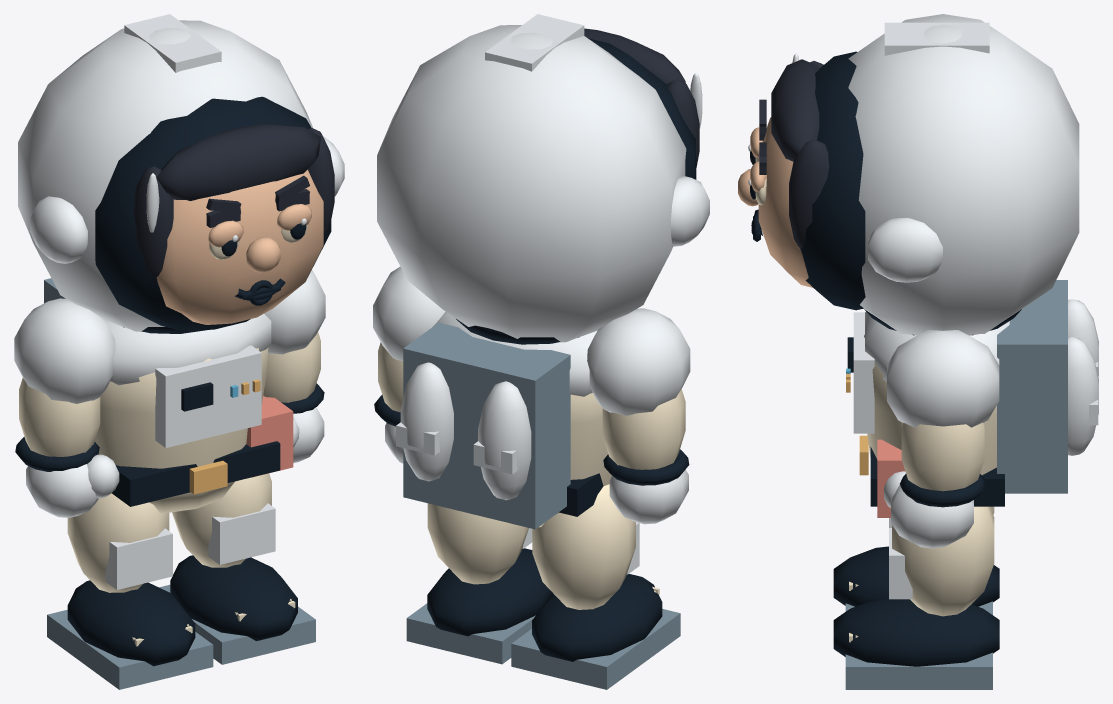
File: crew-aiko.glb
The picture shows the model from 3 angles, left to right: view 1: azimuth 30°, elevation 25°; view 2: azimuth 150°, elevation 25°; view 3: azimuth 270°, elevation 25°; orthographic projection. The views are drawn at different scales.
Parts seen in each view (by area): view 1: helmet-shell, boot (×2), face, visor-gasket, shoulder (×2), leg-pressure (×2), hairline, pressure-suit, chest-panel, sole (×2), sleeve (×2), knee-pad (×2) (+14 smaller); view 2: helmet-shell, life-pack, leg-pressure (×2), boot (×2), shoulder (×2), air-cell (×2), sole (×2), sleeve (×2), pressure-suit, glove, helmet-crown, helmet-hinge (+8 smaller); view 3: helmet-shell, life-pack, boot (×2), visor-gasket, shoulder, leg-pressure, sleeve, sole, air-cell (×2), helmet-hinge, hairline, face (+10 smaller).
Boxes of the visible parts, bbox=[...] form: helmet-shell: bbox=[18, 20, 312, 331]; boot (×2): bbox=[67, 555, 297, 666]; face: bbox=[156, 169, 323, 324]; visor-gasket: bbox=[95, 96, 331, 330]; shoulder (×2): bbox=[14, 270, 325, 403]; leg-pressure (×2): bbox=[67, 473, 271, 592]; hairline: bbox=[157, 124, 320, 200]; pressure-suit: bbox=[95, 347, 268, 513]; chest-panel: bbox=[155, 345, 261, 447]; sole (×2): bbox=[47, 584, 315, 689]; sleeve (×2): bbox=[19, 332, 320, 456]; knee-pad (×2): bbox=[105, 503, 275, 589]; helmet-shell: bbox=[377, 25, 686, 342]; life-pack: bbox=[403, 322, 570, 529]; leg-pressure (×2): bbox=[427, 484, 635, 609]; boot (×2): bbox=[427, 548, 662, 661]; shoulder (×2): bbox=[373, 266, 690, 415]; air-cell (×2): bbox=[400, 362, 531, 500]; sole (×2): bbox=[406, 603, 680, 689]; sleeve (×2): bbox=[378, 342, 685, 469]; pressure-suit: bbox=[501, 393, 611, 527]; glove: bbox=[609, 469, 688, 524]; helmet-crown: bbox=[485, 14, 584, 71]; helmet-hinge: bbox=[671, 176, 709, 246]; helmet-shell: bbox=[848, 14, 1079, 335]; life-pack: bbox=[997, 280, 1067, 493]; boot (×2): bbox=[833, 546, 999, 666]; visor-gasket: bbox=[801, 51, 865, 310]; shoulder: bbox=[887, 330, 999, 427]; leg-pressure: bbox=[892, 506, 994, 616]; sleeve: bbox=[901, 422, 984, 491]; sole: bbox=[845, 652, 992, 689]; air-cell (×2): bbox=[1068, 299, 1098, 455]; helmet-hinge: bbox=[868, 218, 942, 282]; hairline: bbox=[771, 59, 819, 161]; face: bbox=[758, 117, 812, 287].
Size of the model in its own units: 1.34 by 2.56 by 1.37.
